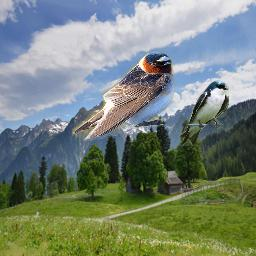Swallow: (72, 51, 175, 143), (179, 80, 229, 146)
